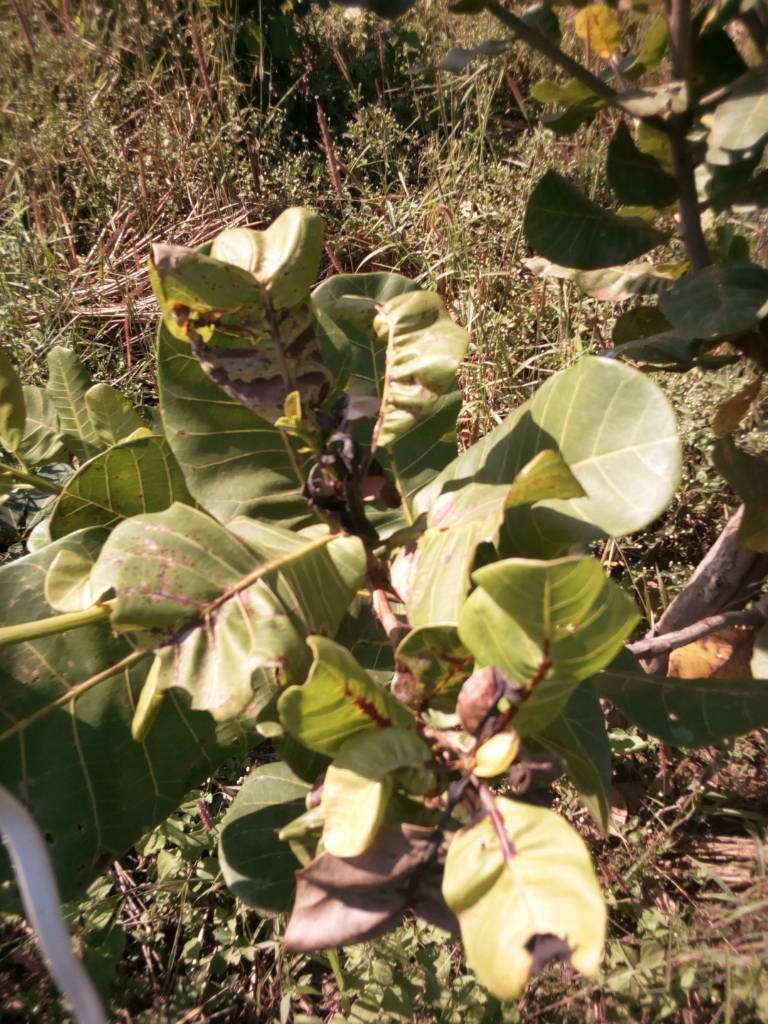Dessèchement des bourgeons: (238, 335, 380, 530), (415, 680, 557, 777)
